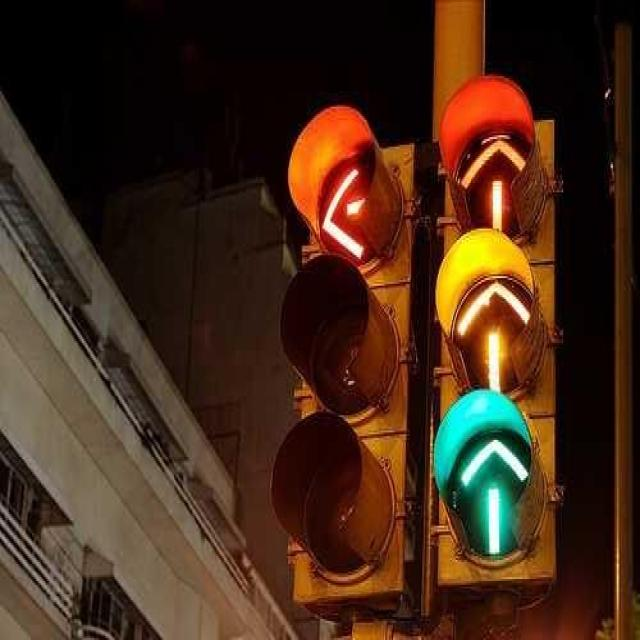Traffic Light -Green-: (432, 389, 550, 564)
Traffic Light -Red-: (276, 114, 413, 600), (432, 76, 561, 232)
Traffic Light -Yellow-: (429, 227, 559, 391)
